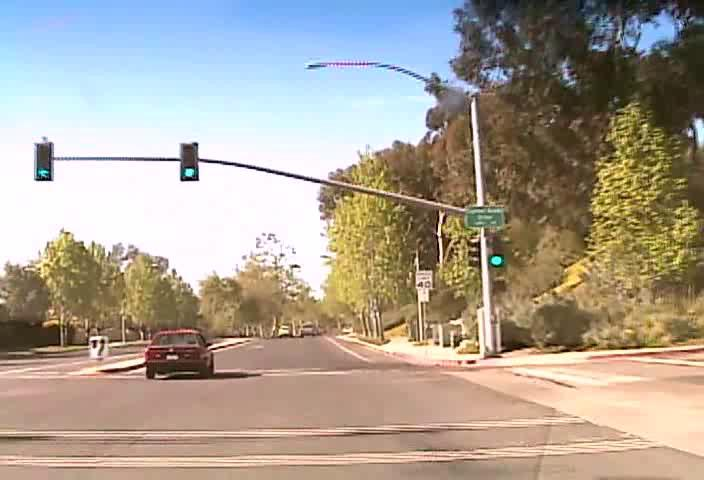speedLimit40: (414, 269, 433, 290)
